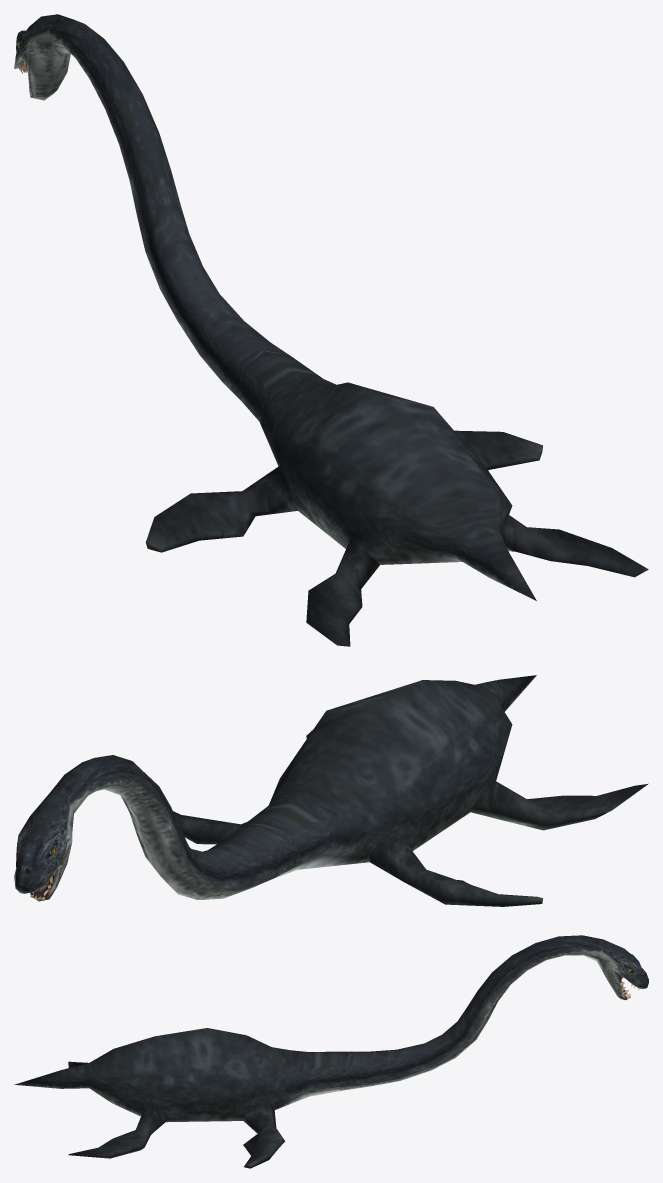
Rendered from Plesiosaurus.fbx.
The picture shows the model from 3 angles, top to bottom: view 1: azimuth 30°, elevation 25°; view 2: azimuth 150°, elevation 25°; view 3: azimuth 270°, elevation 25°; orthographic projection. The views are drawn at different scales.
Parts seen in each view (by area): view 1: plesiosaurus; view 2: plesiosaurus; view 3: plesiosaurus.
Part boxes in pixels (x1=…): plesiosaurus: x1=14, y1=14, x2=648, y2=646; plesiosaurus: x1=14, y1=675, x2=648, y2=906; plesiosaurus: x1=14, y1=935, x2=648, y2=1168.
Size of the model in its own units: 359 by 256 by 808.
Materials: 2 (2 with a texture image).
